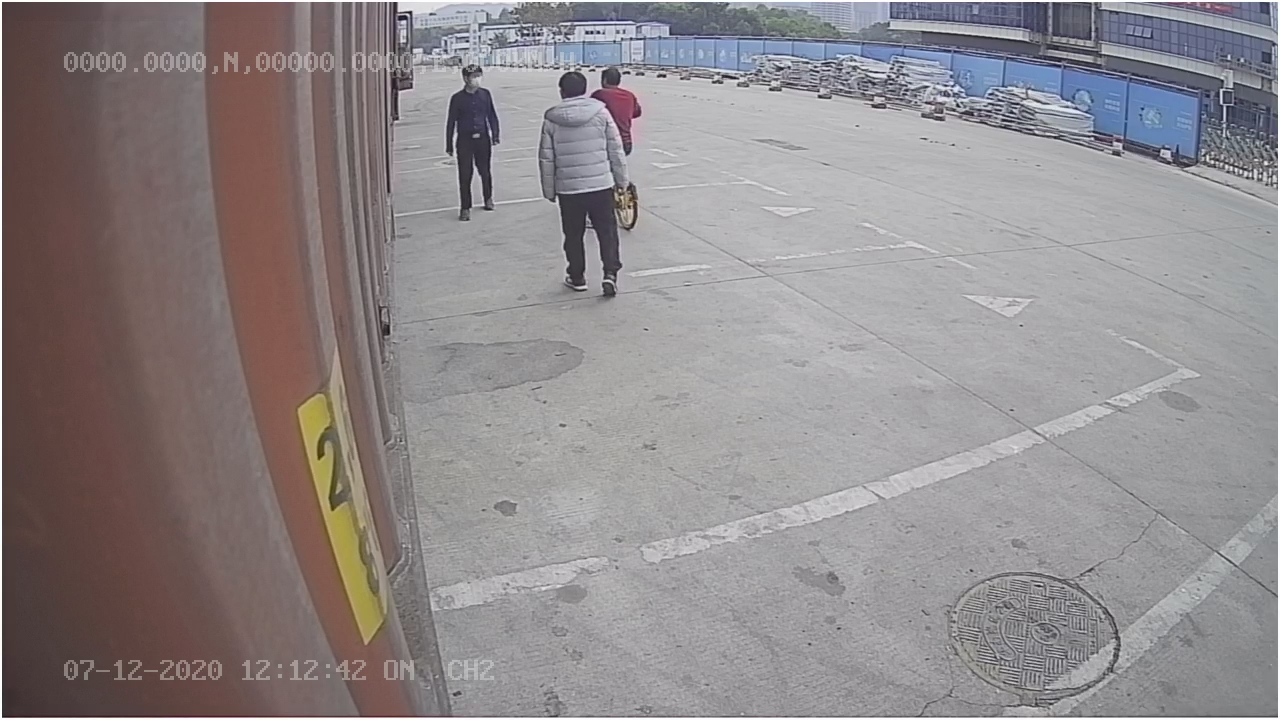person: (536, 67, 630, 300)
